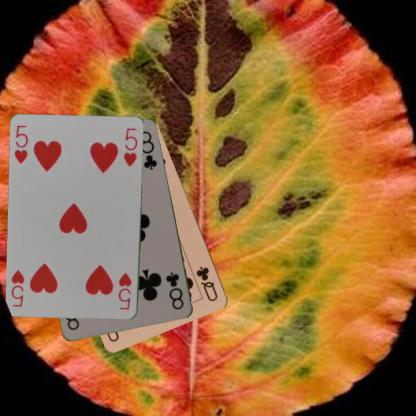5h: (12, 122, 30, 166), (116, 270, 134, 311)
8c: (164, 270, 186, 312)
Qc: (194, 264, 220, 303)
